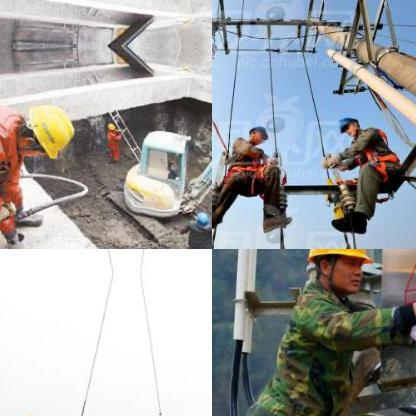Helmet: (301, 249, 374, 299), (15, 102, 75, 160), (336, 108, 360, 136), (247, 122, 267, 144), (194, 210, 210, 230), (106, 120, 116, 130), (19, 410, 33, 415)
